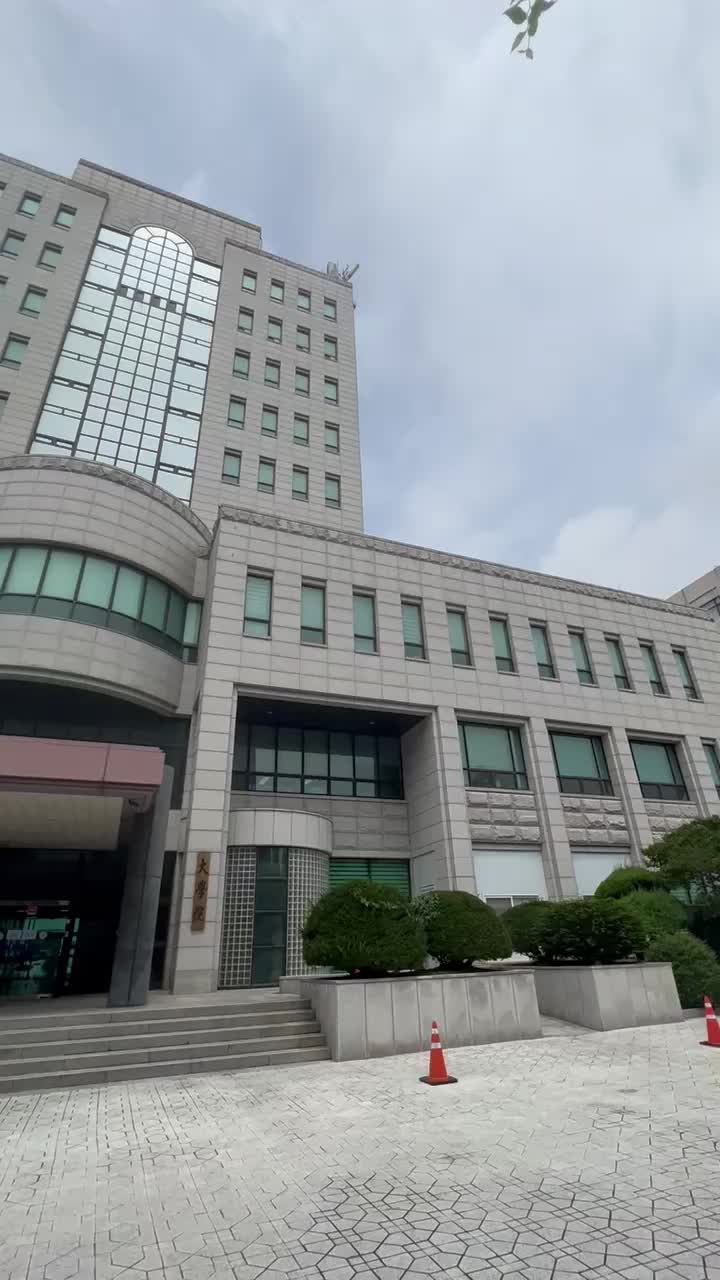low: (20, 170, 390, 810)
